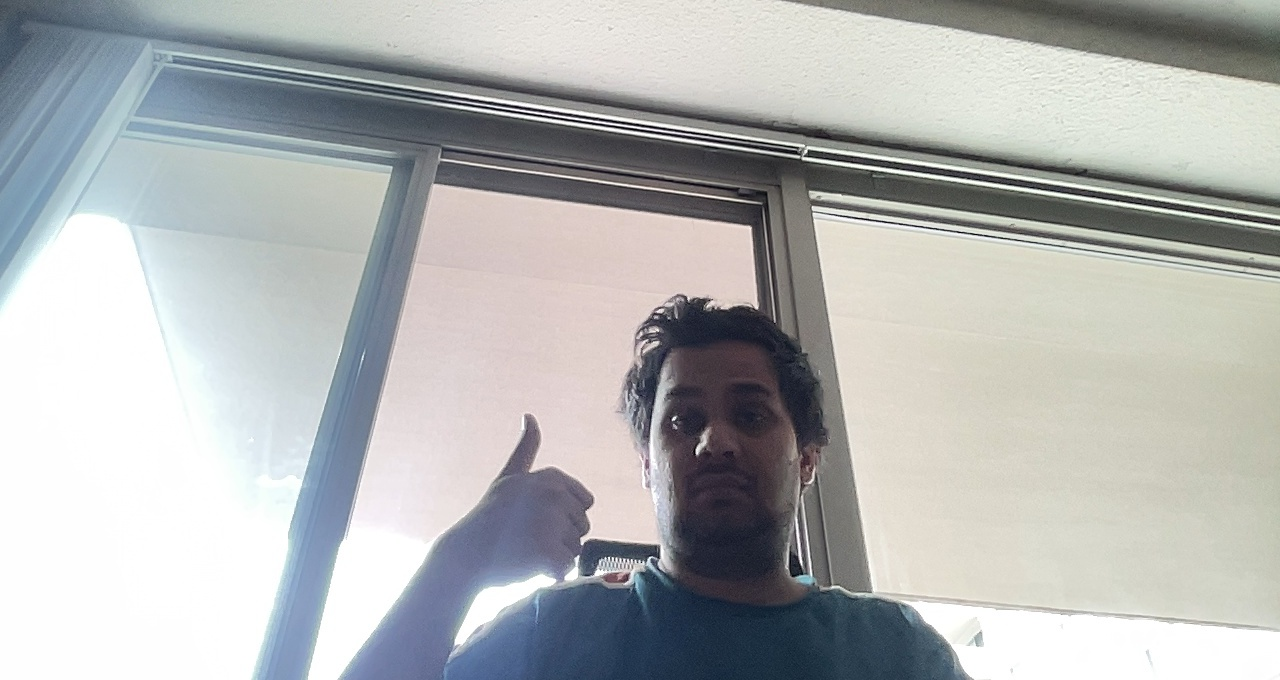thumbsup: (471, 407, 597, 580)
